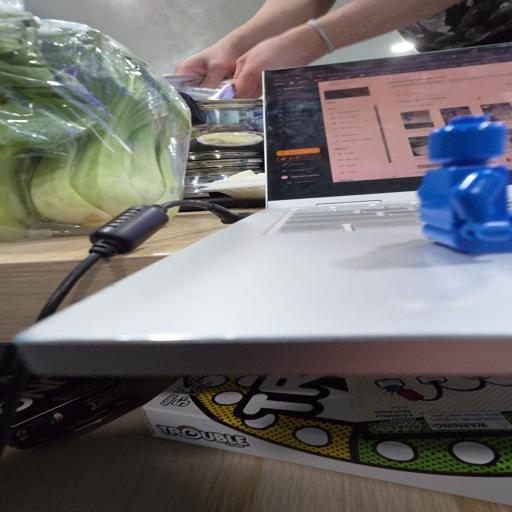Blue: (418, 115, 512, 254)
